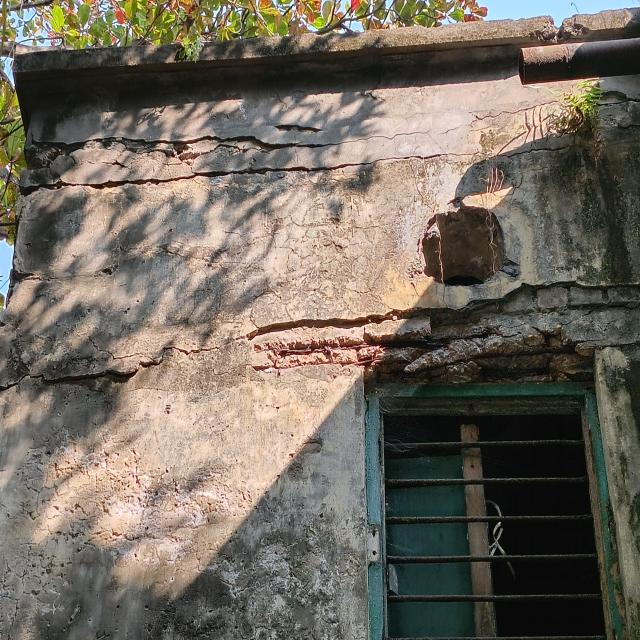Corrosion: (518, 38, 640, 85)
Crack: (19, 144, 577, 214), (0, 331, 252, 398), (259, 127, 444, 155), (471, 99, 559, 123), (496, 165, 550, 199)
Scaling: (0, 155, 470, 385), (0, 350, 368, 640), (594, 88, 640, 109)
Spalling: (250, 283, 640, 384), (21, 122, 480, 189), (521, 7, 640, 43)
pollution -moisture induced blackening: (13, 8, 640, 141), (494, 104, 640, 286)
